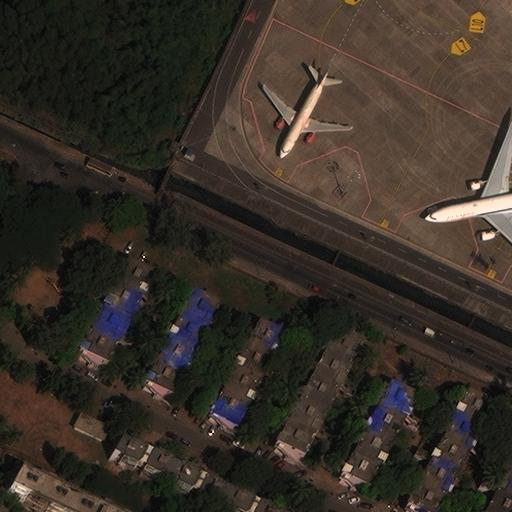Large Civil Transport: (423, 119, 511, 260)
Medium Civil Transport: (261, 69, 351, 158)
